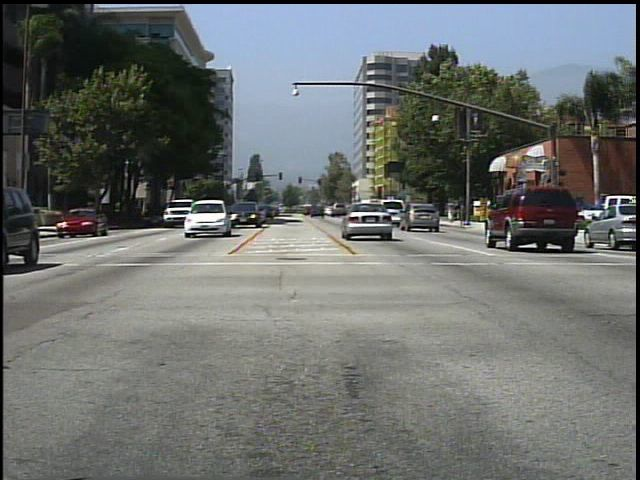person: (484, 195, 504, 229), (446, 196, 459, 225)
